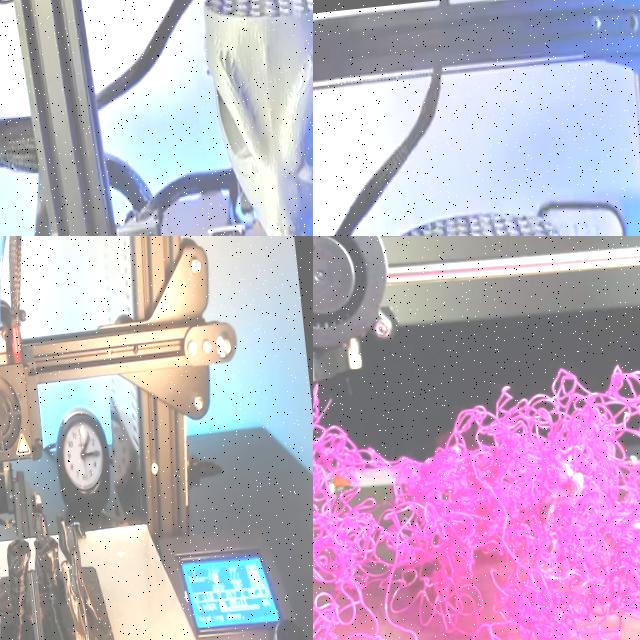spaghetti: (313, 261, 640, 640)
